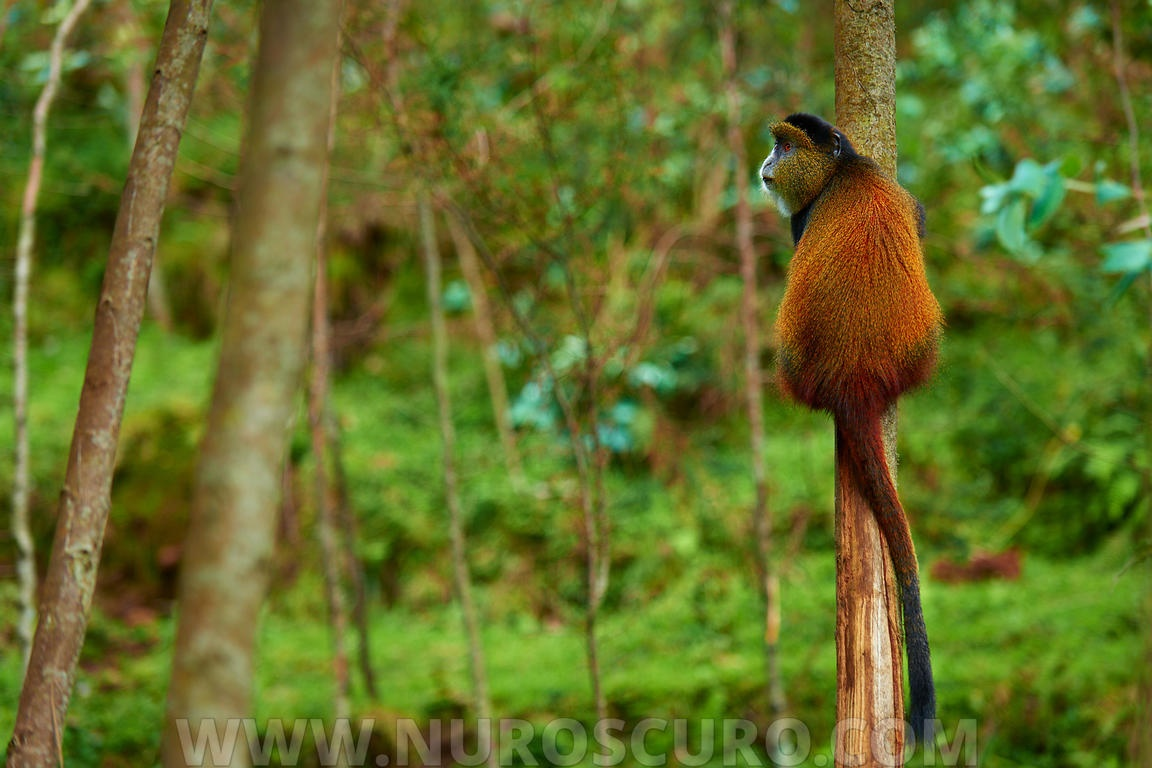monkey: (752, 102, 975, 738)
